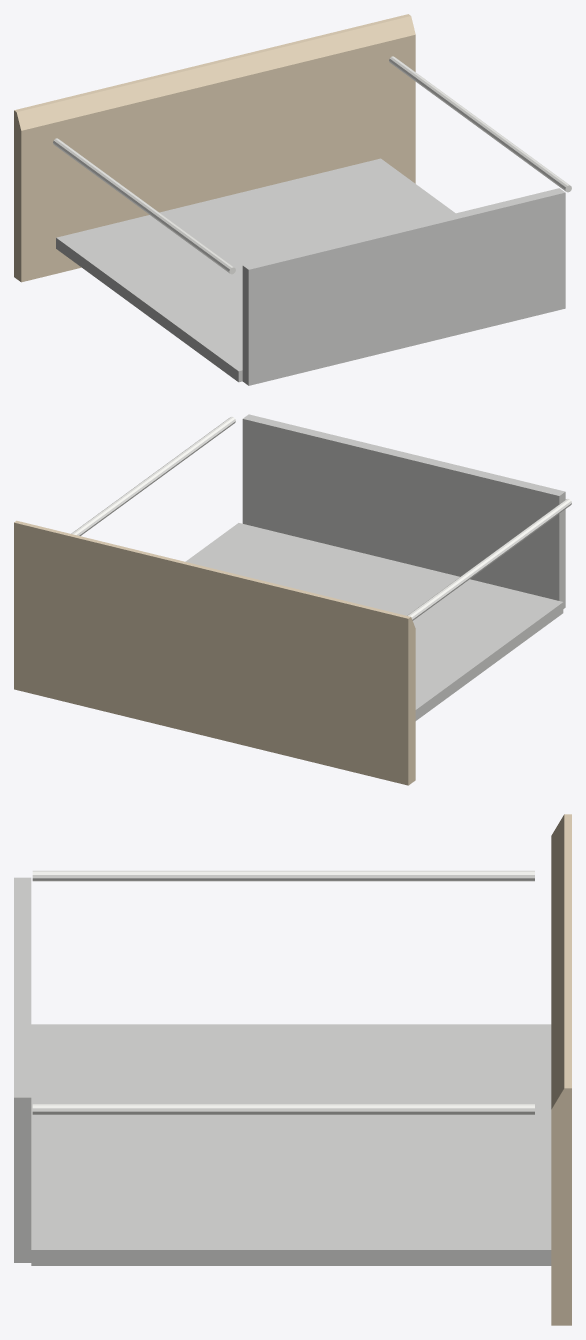
Rendered from skuff_OF1_2.glb.
The picture shows the model from 3 angles, top to bottom: view 1: azimuth 30°, elevation 25°; view 2: azimuth 150°, elevation 25°; view 3: azimuth 270°, elevation 25°; orthographic projection. The views are drawn at different scales.
Size of the model in its own units: 594 by 240 by 511.
